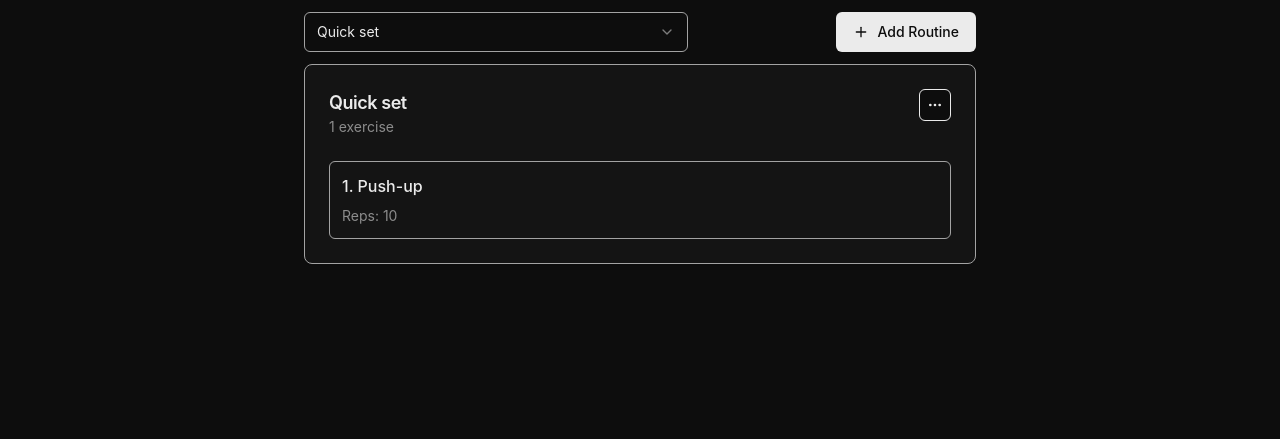
Scenario: ExerciseRoutinesView › returns to the routine stack and scrolls to the top when canceling a draft
This screenshot has width=1280, height=439.
Later steps or results of the test are not shown.
Press the mouse on the button "Add Routine" at (906, 32), box [836,12,976,52]
Click the button "Add Routine" at (906, 32), box [836,12,976,52]
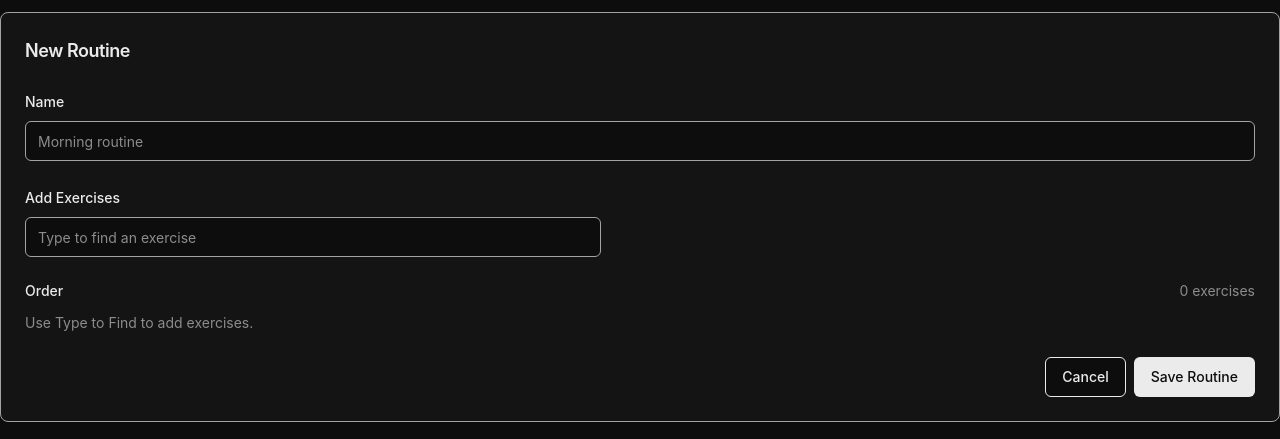
Expected: the element with test id "exercise-routine-card-viewport" is gone
